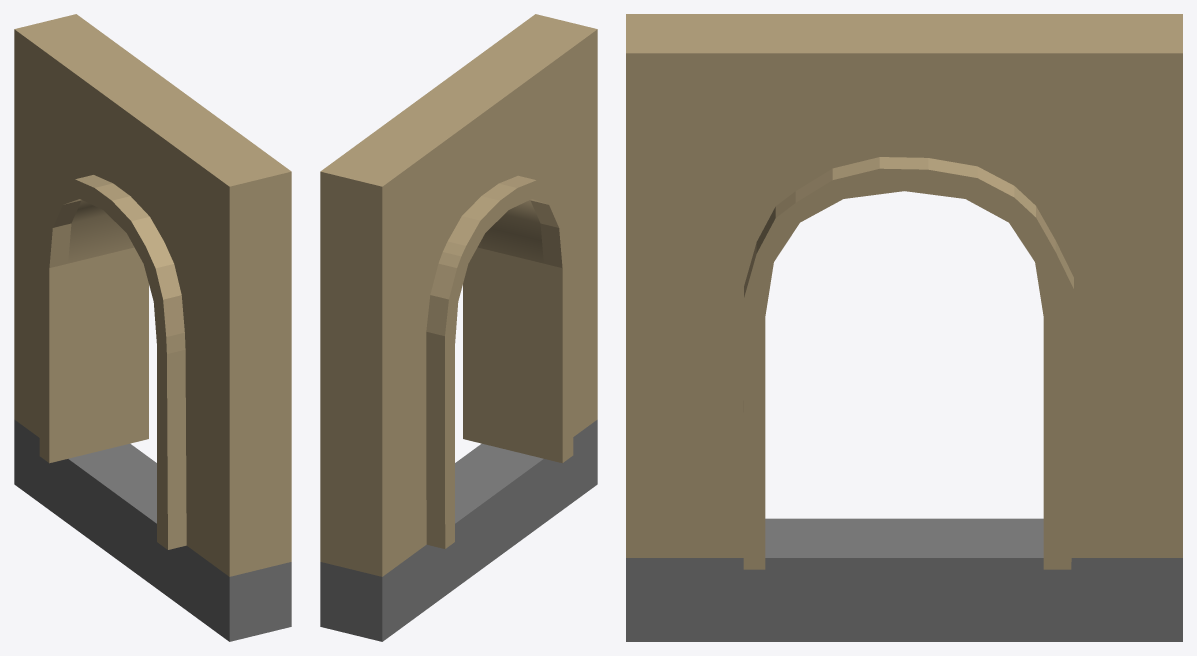
The model's file is Door.fbx.
3 views of the same model, side by side, from view 1: azimuth 30°, elevation 25°; view 2: azimuth 150°, elevation 25°; view 3: azimuth 270°, elevation 25° (orthographic). The views are drawn at different scales.
Parts seen in each view (by area): view 1: Box001; view 2: Box001; view 3: Box001.
Part boxes in pixels (x1,y1,x2,y2): Box001: (14,14,291,641); Box001: (320,14,597,641); Box001: (626,14,1182,641).
Bounding box in the file's own units: 80 × 350 × 300.
